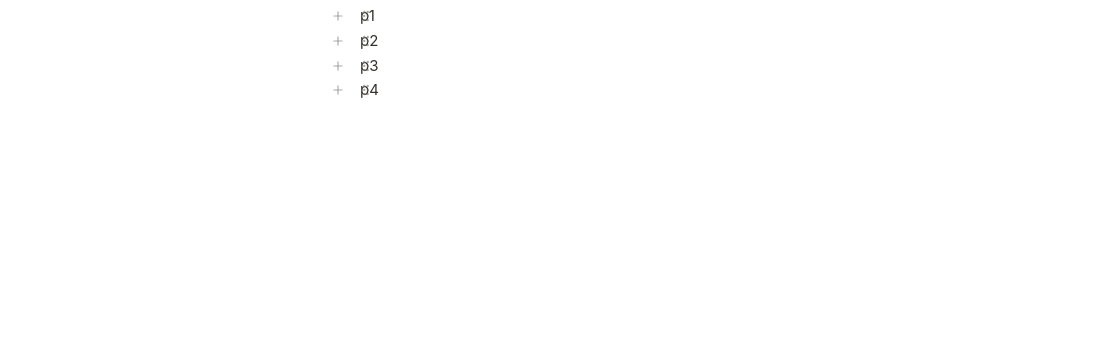
Test: multi-block context menu › right-click outside the selection collapses to the target block menu
Press the mouse on the element showing "p3" at (366, 66), box x1=354 y1=54 x2=378 y2=78
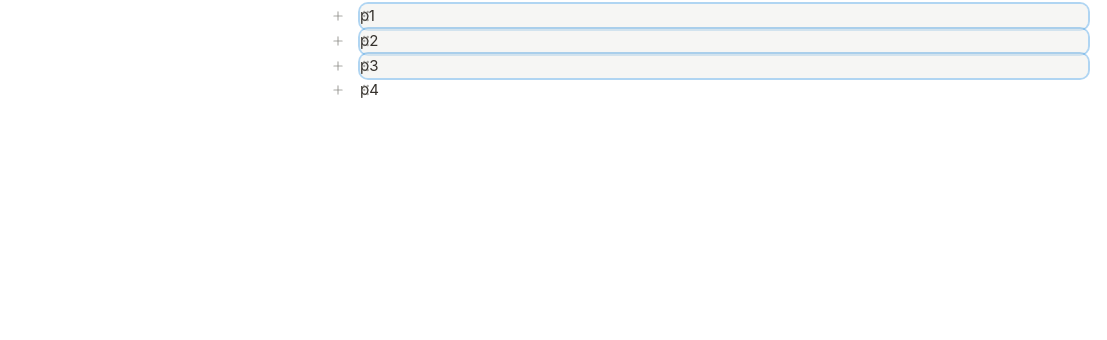
Press the mouse on the element showing "p4" at (367, 90), box x1=354 y1=78 x2=379 y2=102
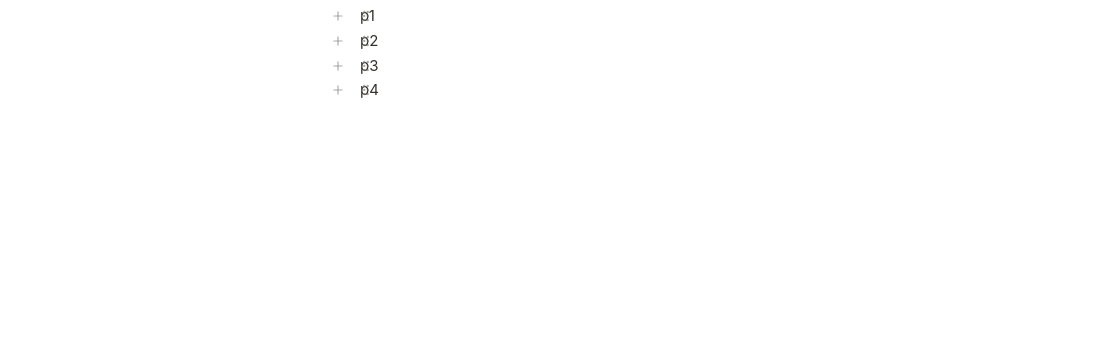
Right-click the element showing "p4" at (367, 90), box x1=354 y1=78 x2=379 y2=102
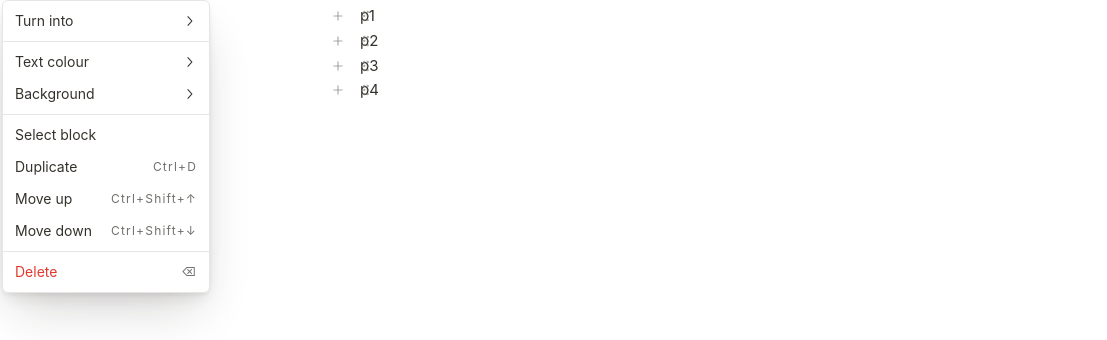
Check: the menu item "Duplicate Ctrl+D" is shown, box x1=15 y1=158 x2=197 y2=175
Check: the menu item "Select block" is shown, box x1=15 y1=126 x2=96 y2=143
